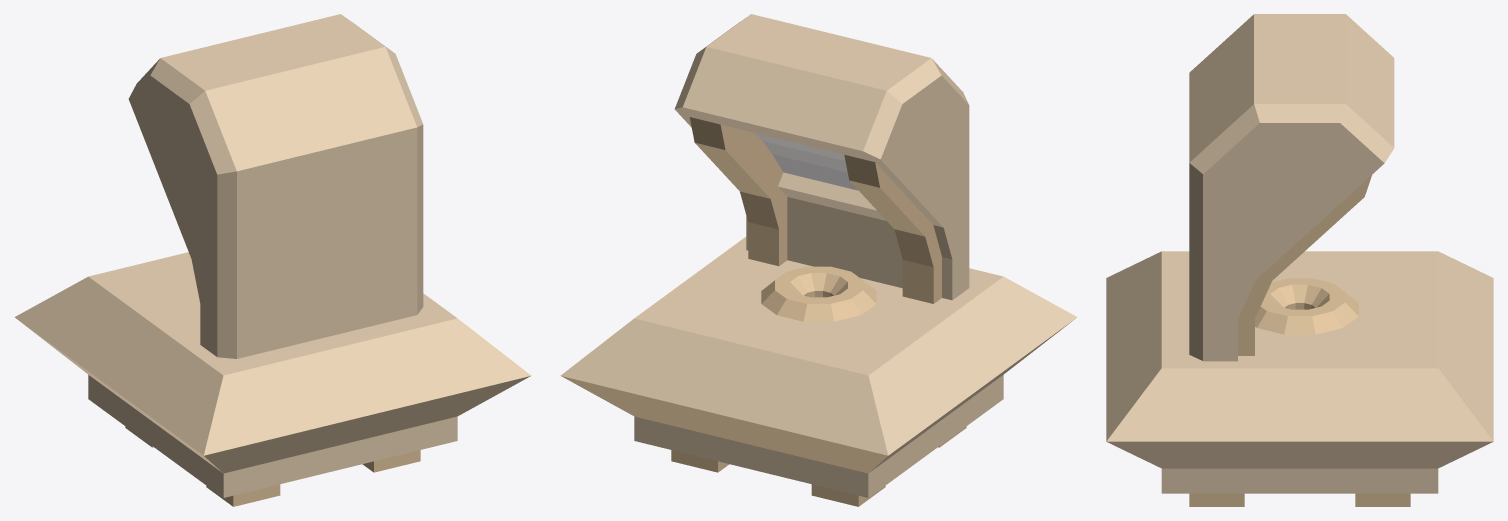
File: Puzzle_Sliding_Emitter.glb
3 renders of one model, left to right at view 1: azimuth 30°, elevation 25°; view 2: azimuth 150°, elevation 25°; view 3: azimuth 270°, elevation 25°, orthographic. The views are drawn at different scales.
Visible parts, largest first — view 1: Puzzle_Sliding_Emitter; view 2: Puzzle_Sliding_Emitter; view 3: Puzzle_Sliding_Emitter.
Part boxes in pixels (x1=…): Puzzle_Sliding_Emitter: x1=14, y1=14, x2=531, y2=506; Puzzle_Sliding_Emitter: x1=560, y1=14, x2=1077, y2=506; Puzzle_Sliding_Emitter: x1=1106, y1=14, x2=1493, y2=506.
Size of the model in its own units: 0.7 by 0.8 by 0.7.
